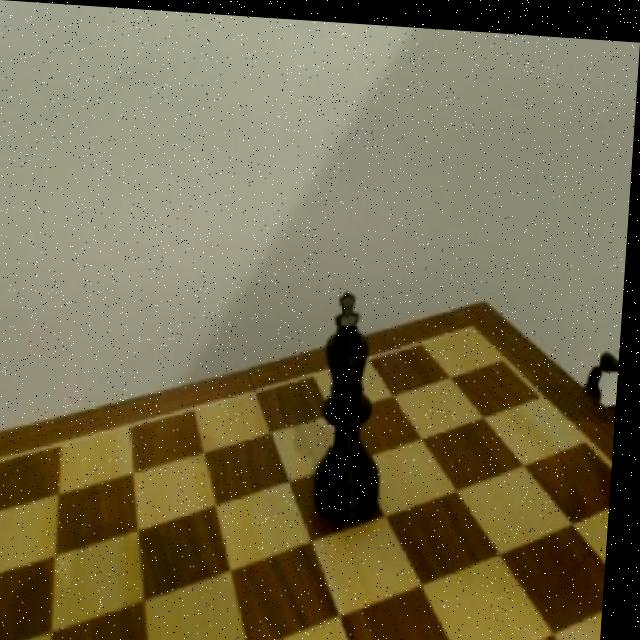black-bishop: (314, 278, 400, 525)
